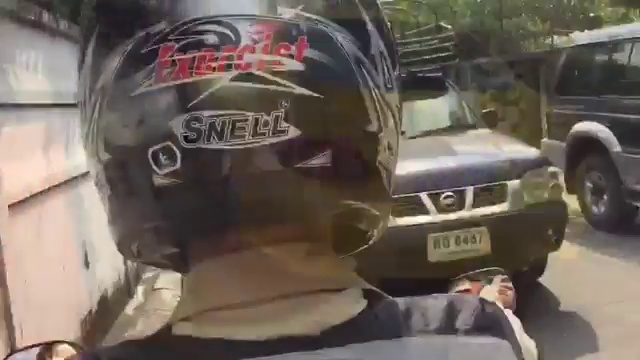helmet: (57, 4, 403, 264)
